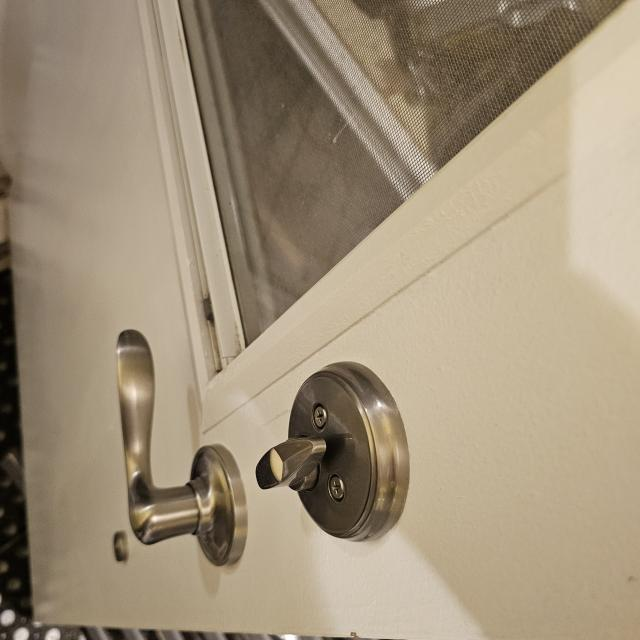door-handle: (118, 330, 248, 565)
